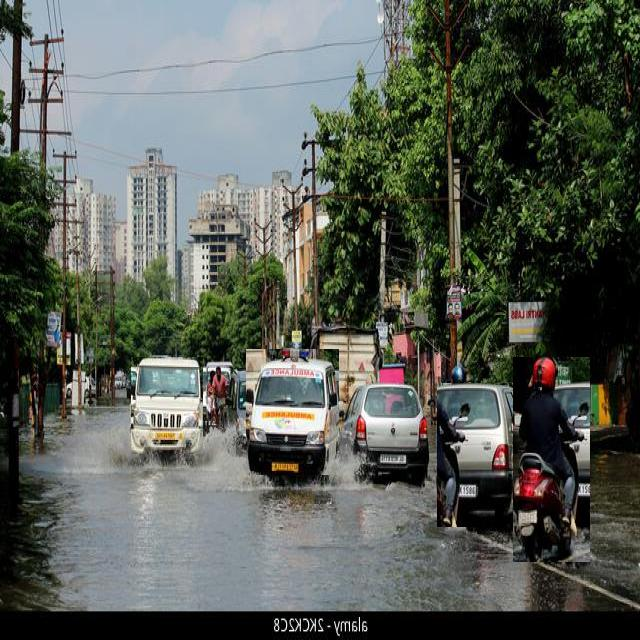car: (437, 383, 546, 527), (340, 383, 429, 483), (131, 358, 202, 454)
emergency: (246, 349, 339, 475)
motorcycle: (513, 358, 589, 562)
